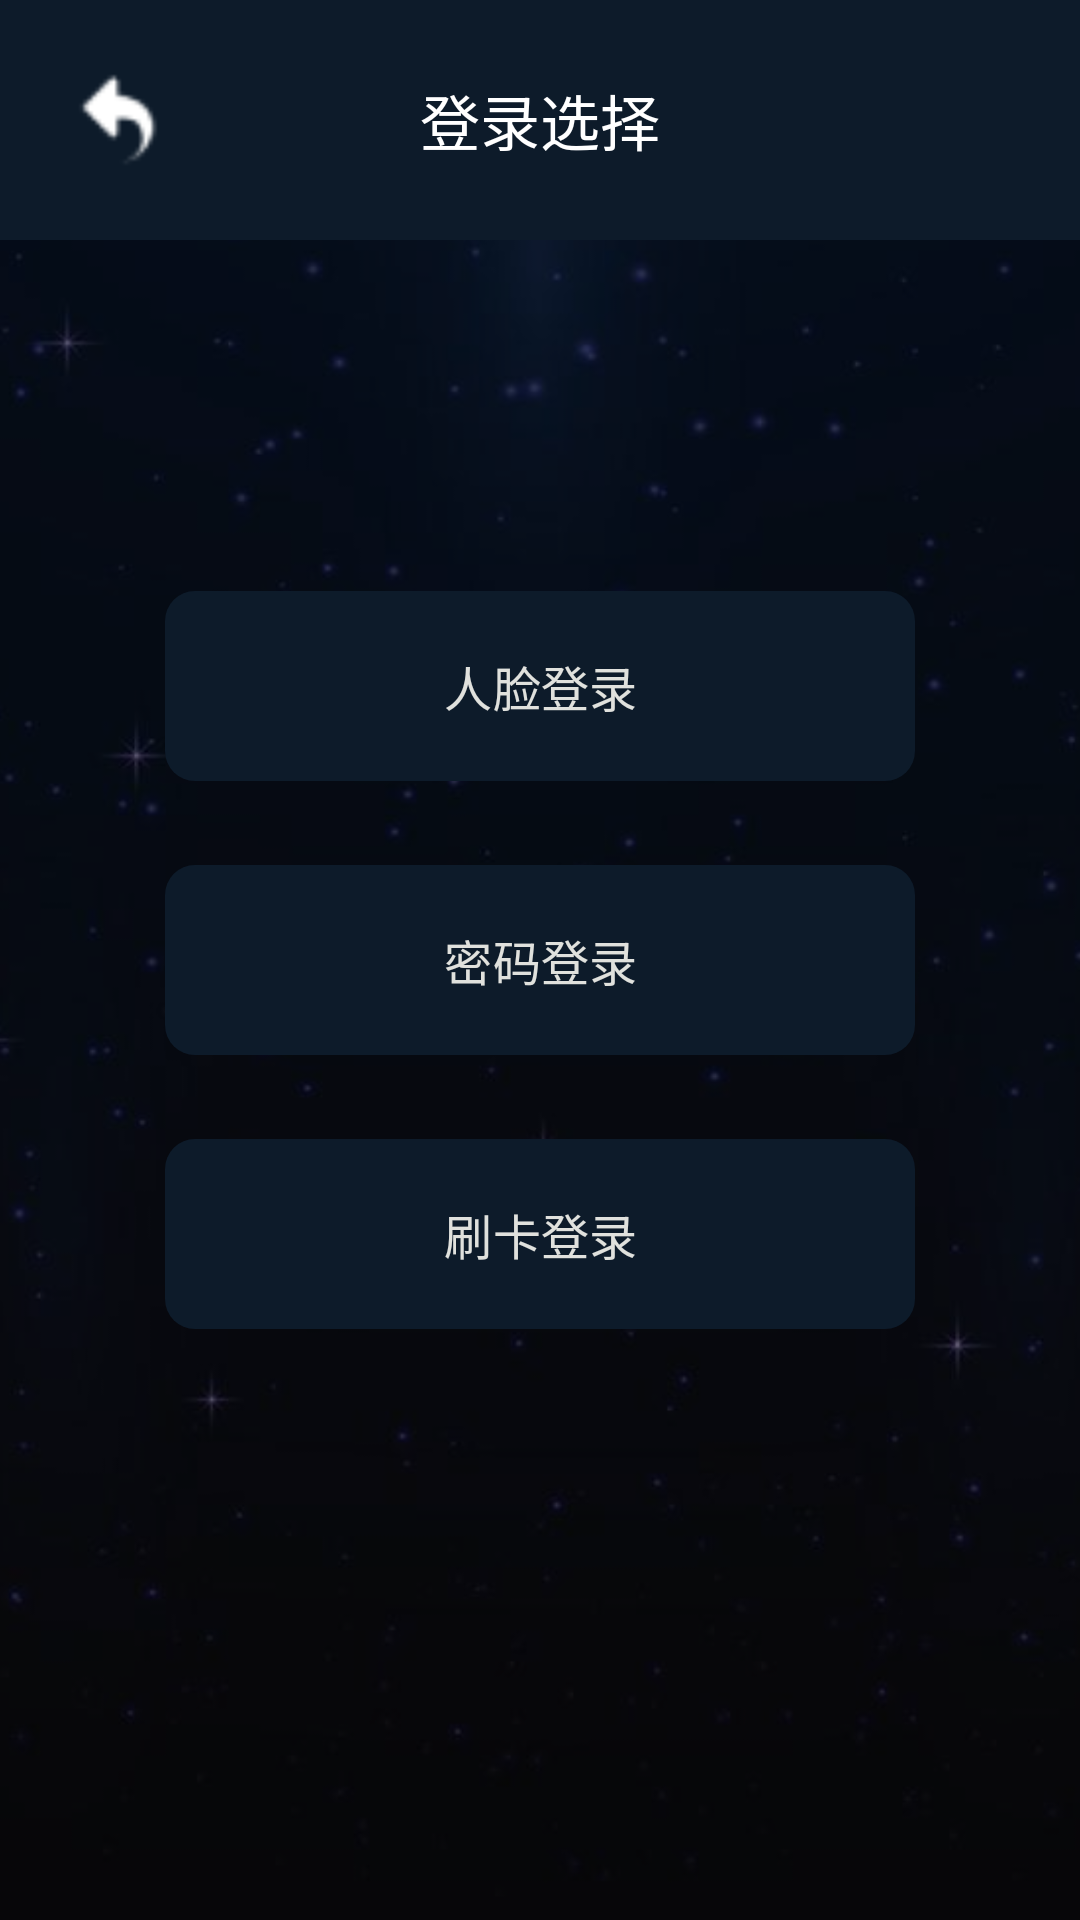

Point at icon controls on the screen. Image size 1080 × 1920, points as (x,y).
返回: (119,117)
